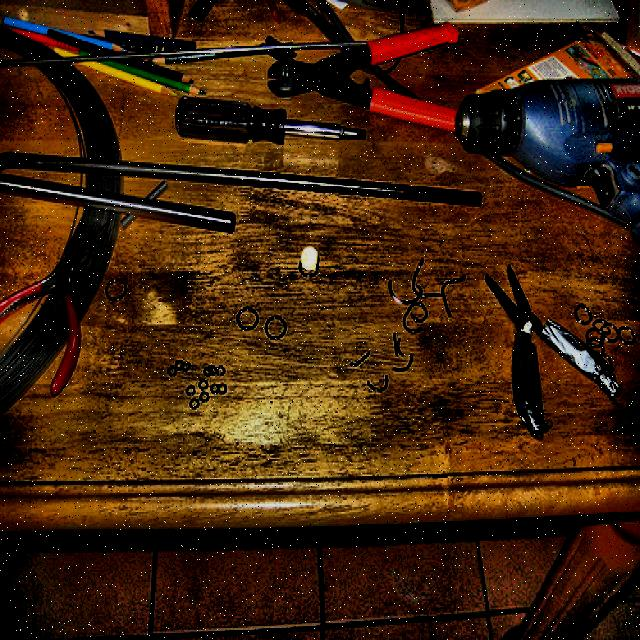screwdriver: (175, 98, 366, 156)
